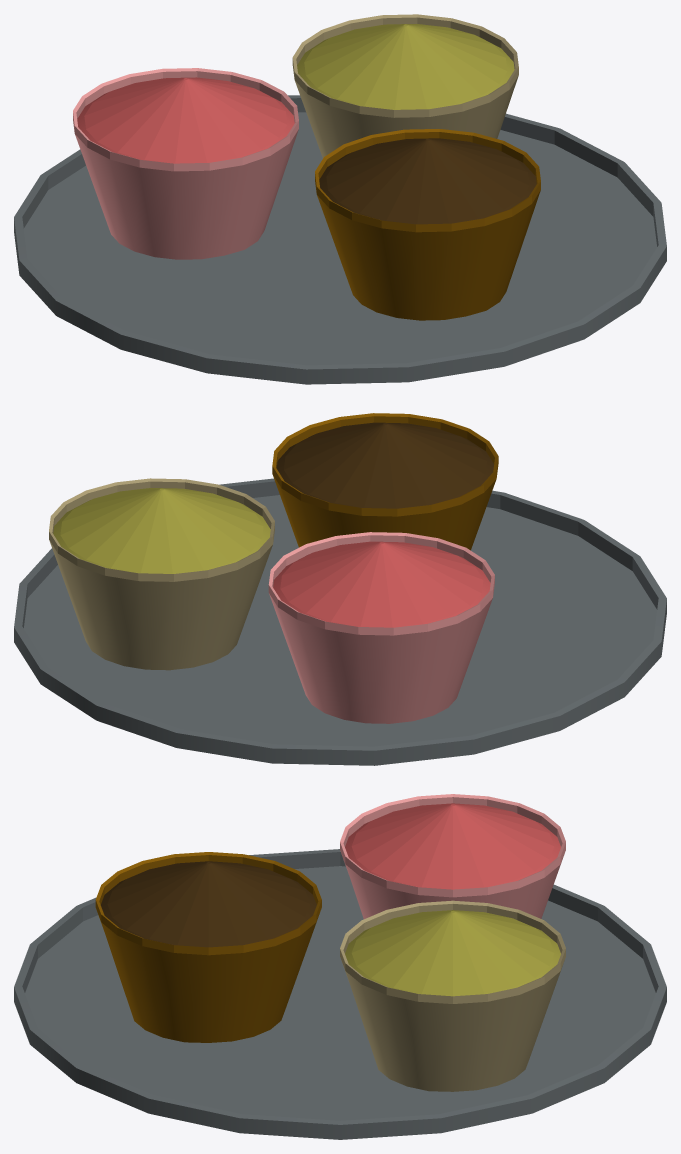
The model's file is PROP_CupCakePlate.fbx.
The picture shows the model from 3 angles, top to bottom: view 1: azimuth 30°, elevation 25°; view 2: azimuth 150°, elevation 25°; view 3: azimuth 270°, elevation 25°; orthographic projection.
Parts seen in each view (by area): view 1: PROP_CupCakePlate; view 2: PROP_CupCakePlate; view 3: PROP_CupCakePlate.
Part boxes in pixels (x1,y1,x2,y2): PROP_CupCakePlate: [14, 14, 666, 384]; PROP_CupCakePlate: [14, 413, 666, 765]; PROP_CupCakePlate: [14, 794, 666, 1139].
Size of the model in its own units: 0.0185 by 0.00468 by 0.0185.
